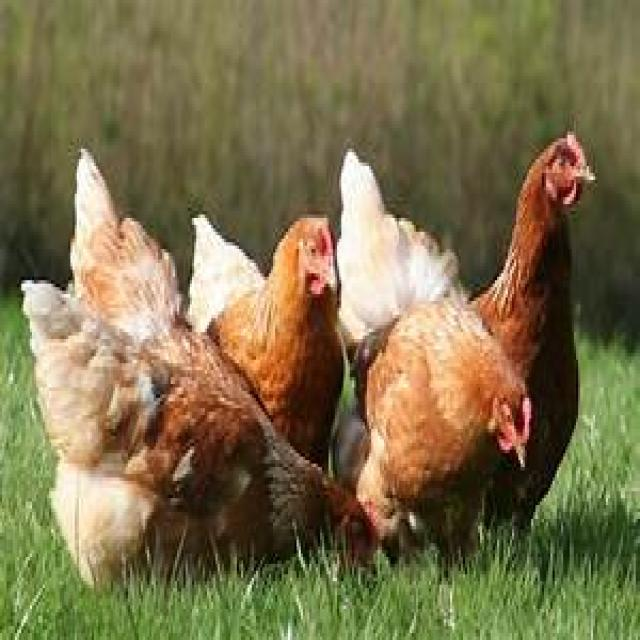hen: (22, 150, 375, 583), (475, 134, 594, 526), (356, 298, 531, 555), (356, 304, 531, 538), (188, 215, 342, 463), (338, 152, 465, 378)
